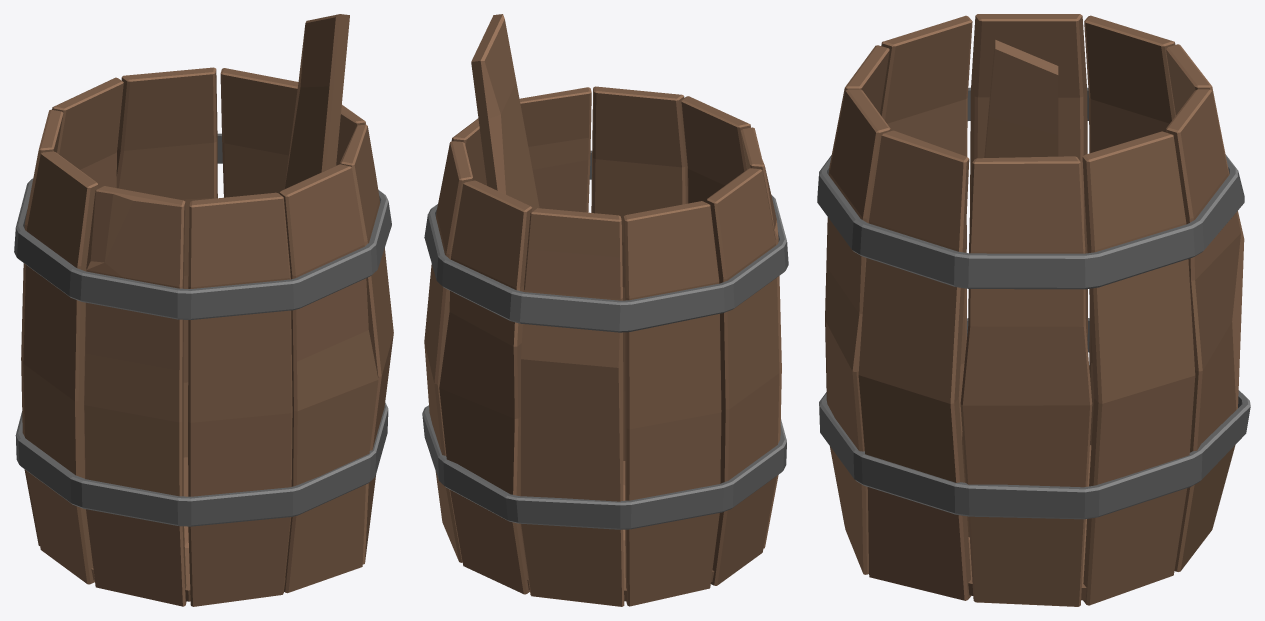
Rendered from Barrel1.fbx.
3 renders of one model, left to right at view 1: azimuth 30°, elevation 25°; view 2: azimuth 150°, elevation 25°; view 3: azimuth 270°, elevation 25°, orthographic. The views are drawn at different scales.
Visible parts, largest first — view 1: Barrel1; view 2: Barrel1; view 3: Barrel1.
Boxes of the visible parts, <box> form: Barrel1: <box>14,14,393,606</box>; Barrel1: <box>422,14,788,606</box>; Barrel1: <box>817,14,1250,606</box>.
Size of the model in its own units: 101 by 150 by 106.
